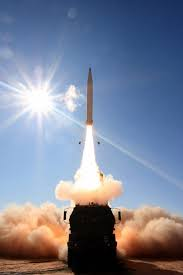ten_lua: (83, 60, 99, 131)
